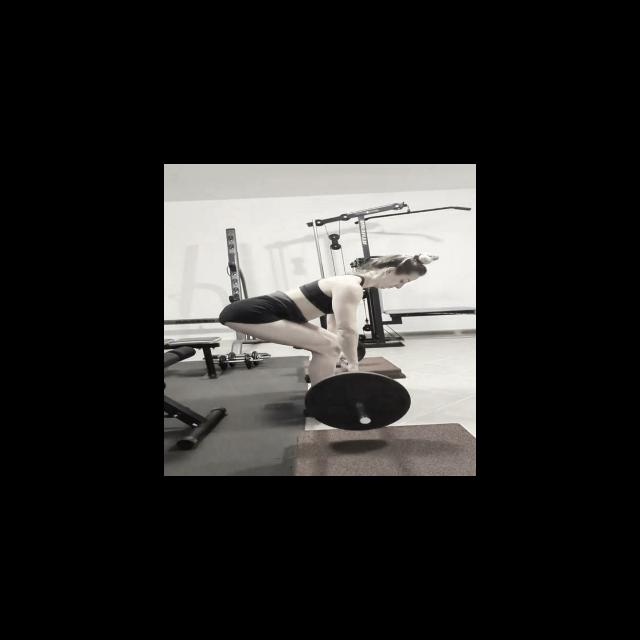barbell: (301, 369, 412, 433)
